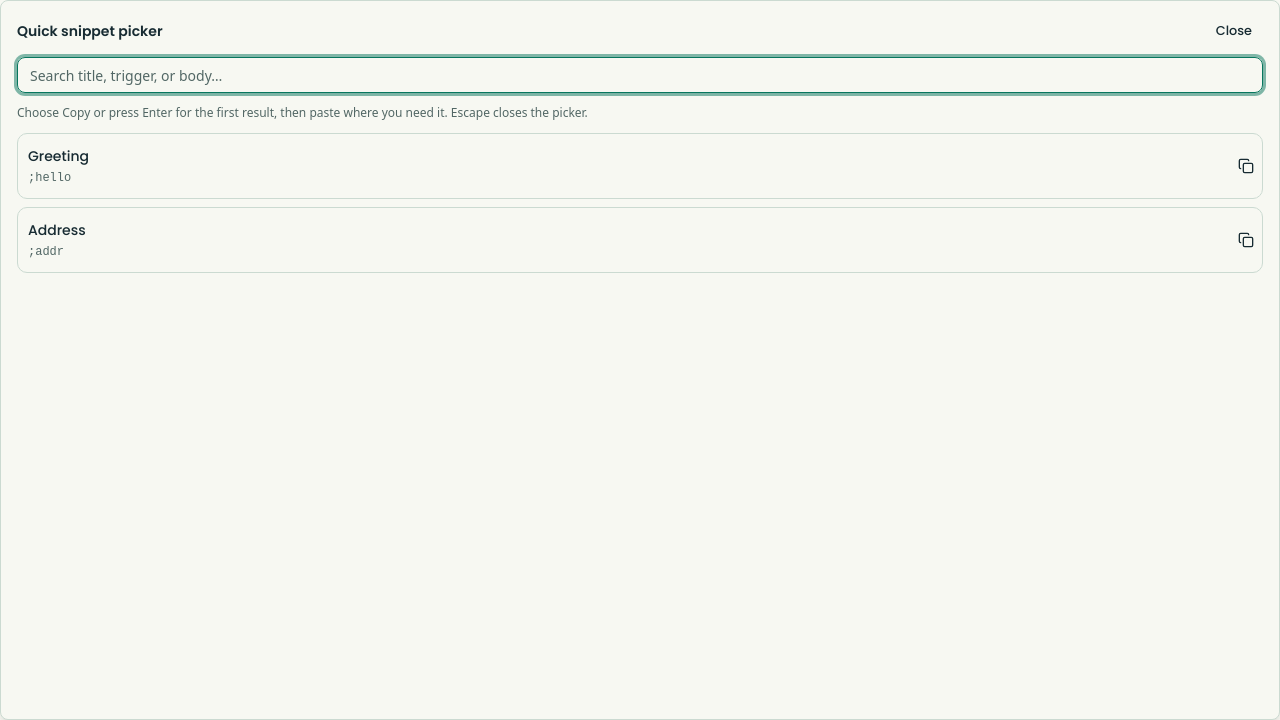
keeps a failed copy available without exposing native details
Click the button with aria-label "Copy Greeting" at (58, 156), box x1=17 y1=133 x2=1263 y2=199
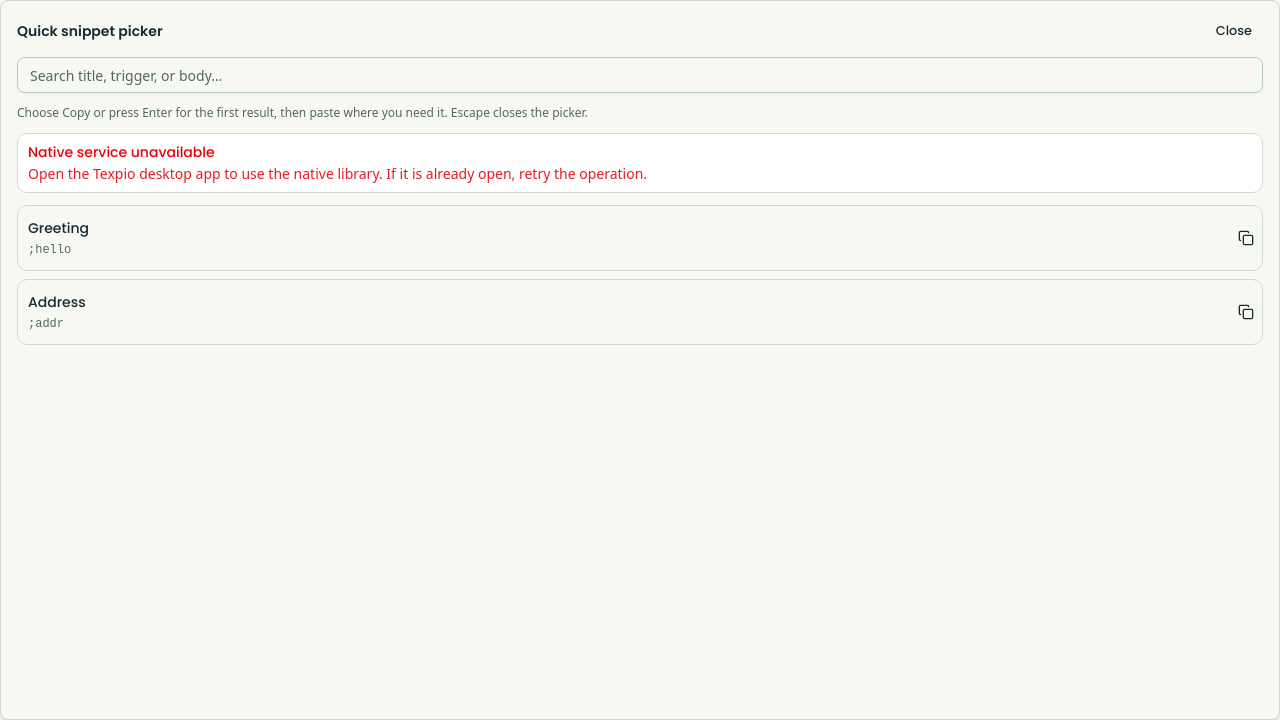
expect the button with aria-label "Copy Greeting" is enabled: met, box x1=17 y1=205 x2=1263 y2=271
expect the message is shown: met, box x1=17 y1=133 x2=1263 y2=193
